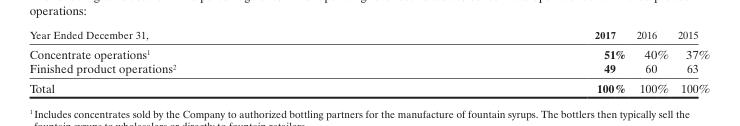table: (28, 28, 709, 95)
table column: (28, 28, 384, 95), (384, 28, 629, 95), (629, 28, 672, 95), (672, 28, 709, 95)
table column header: (28, 28, 709, 43)
table row: (28, 77, 709, 95), (28, 43, 709, 60), (28, 60, 709, 77), (28, 28, 709, 43)
